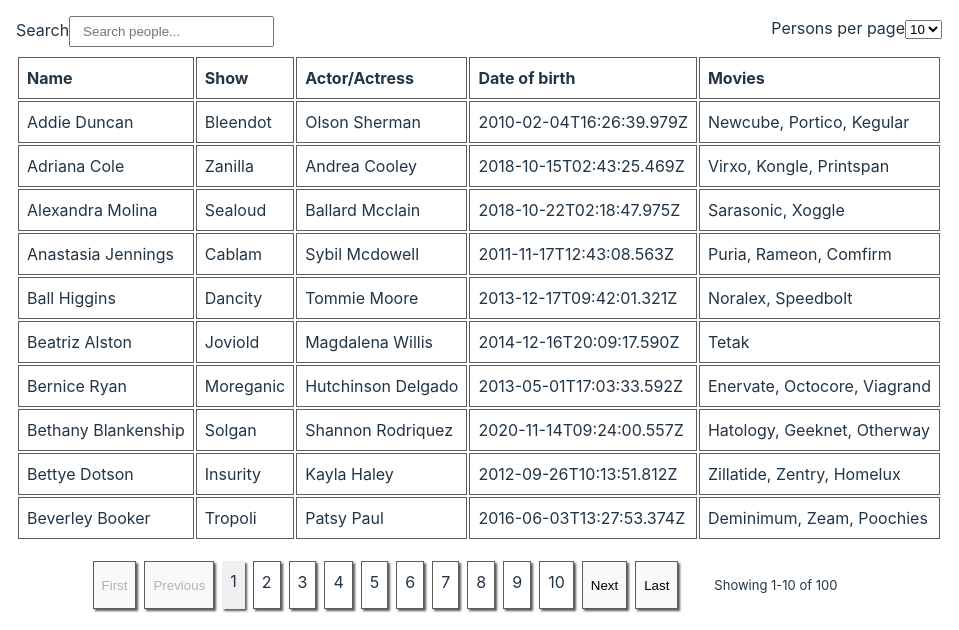
Test: People › Pagination › should go the next page
This screenshot has width=959, height=630.
expect the text "Showing 1-10 of 100" is shown: met, box x1=714 y1=577 x2=838 y2=593
What coordinates should you click on to do the following:
click the button "Next"
I would click on:
 (604, 585)
Its box is x1=582 y1=561 x2=627 y2=609.
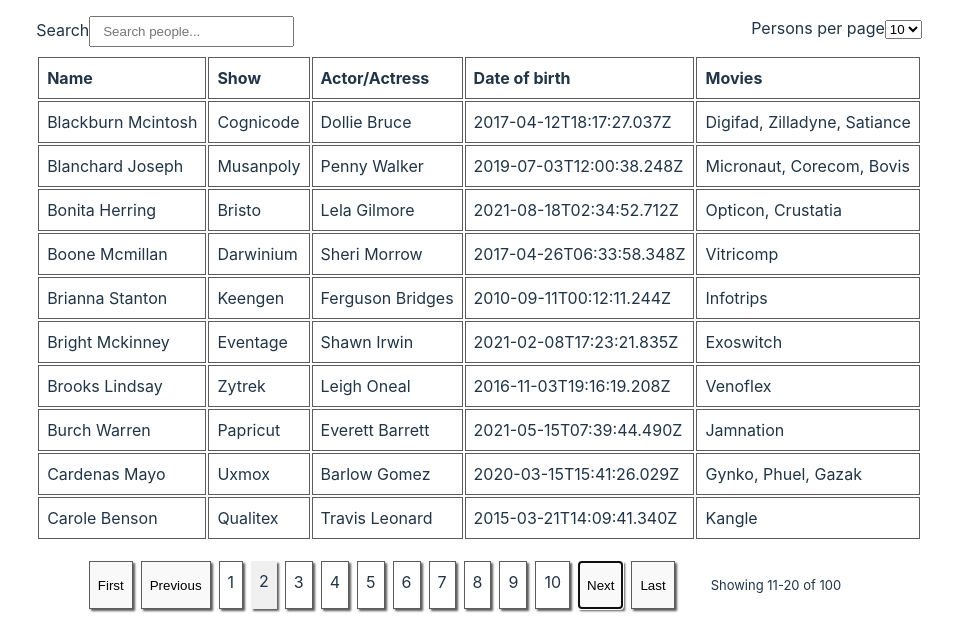
expect the text "Showing 11-20 of 100" is shown: met, box x1=711 y1=577 x2=841 y2=593
